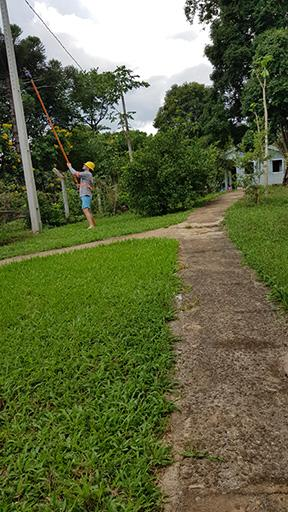Vara_Manobra: (28, 78, 79, 186)
